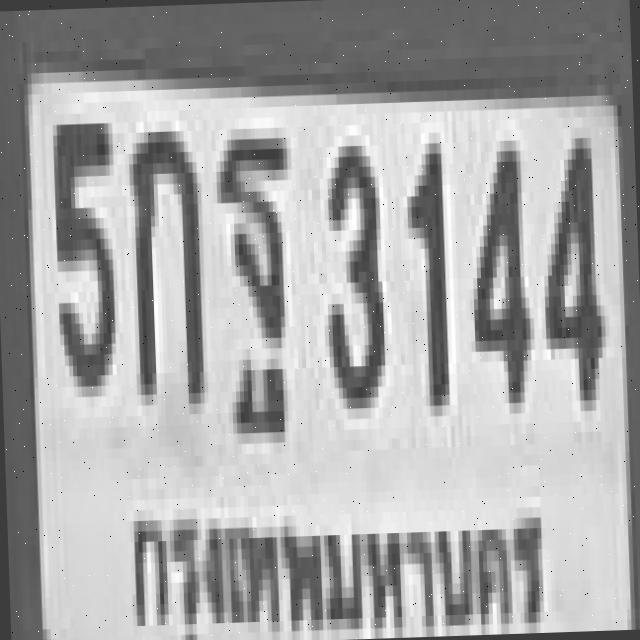1: (400, 132, 446, 406)
10GorGai: (123, 120, 200, 395)
25ThorThan: (211, 128, 291, 402)
3: (317, 134, 382, 398)
4: (534, 127, 600, 402), (464, 130, 529, 404)
5: (48, 112, 113, 388)
Bangkok: (116, 478, 556, 640)
